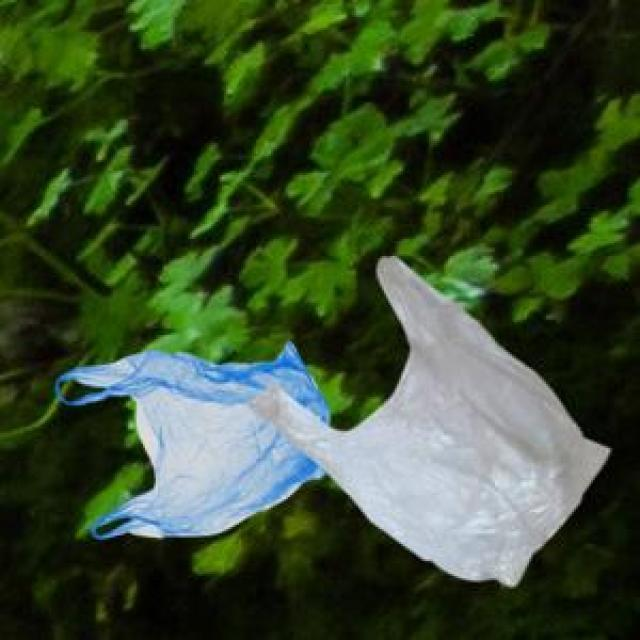waste: (59, 258, 610, 584)
